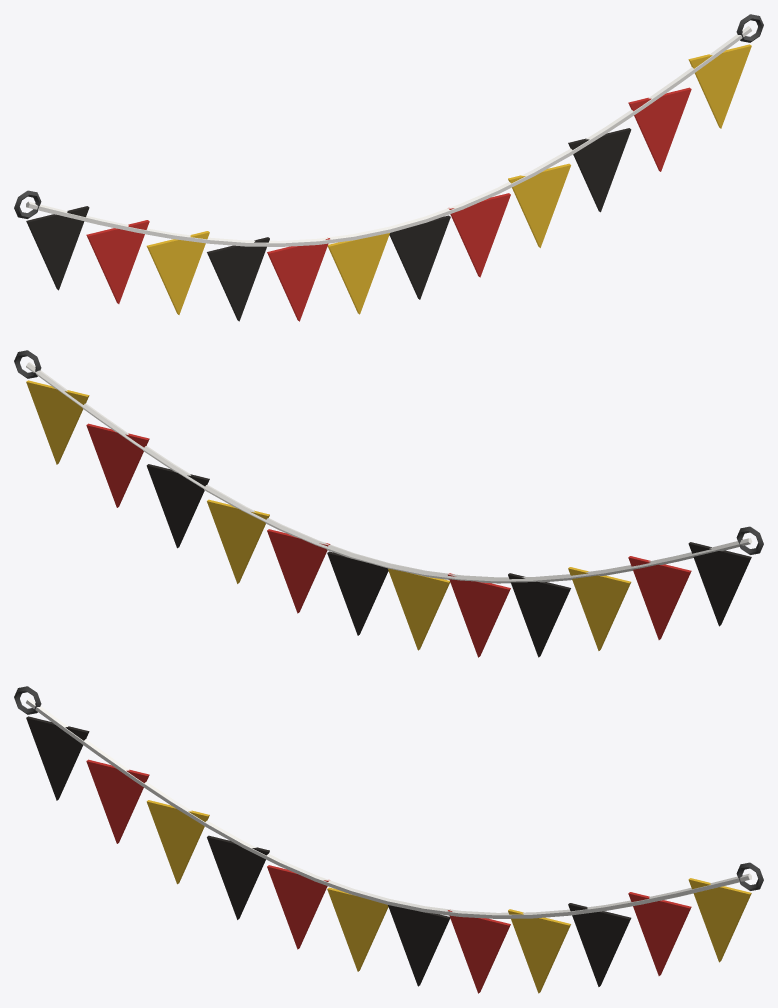
File: bandeirolas_alemanha.glb
3 renders of one model, top to bottom at view 1: azimuth 30°, elevation 25°; view 2: azimuth 150°, elevation 25°; view 3: azimuth 330°, elevation 25°, orthographic.
Visible parts, largest first — view 1: Bandeirolas_Alemanha; view 2: Bandeirolas_Alemanha; view 3: Bandeirolas_Alemanha.
Boxes of the visible parts, <box> form: Bandeirolas_Alemanha: <box>14,14,763,321</box>; Bandeirolas_Alemanha: <box>14,350,763,657</box>; Bandeirolas_Alemanha: <box>14,686,763,993</box>.
Size of the model in its own units: 2.08 by 0.5404 by 0.016.
